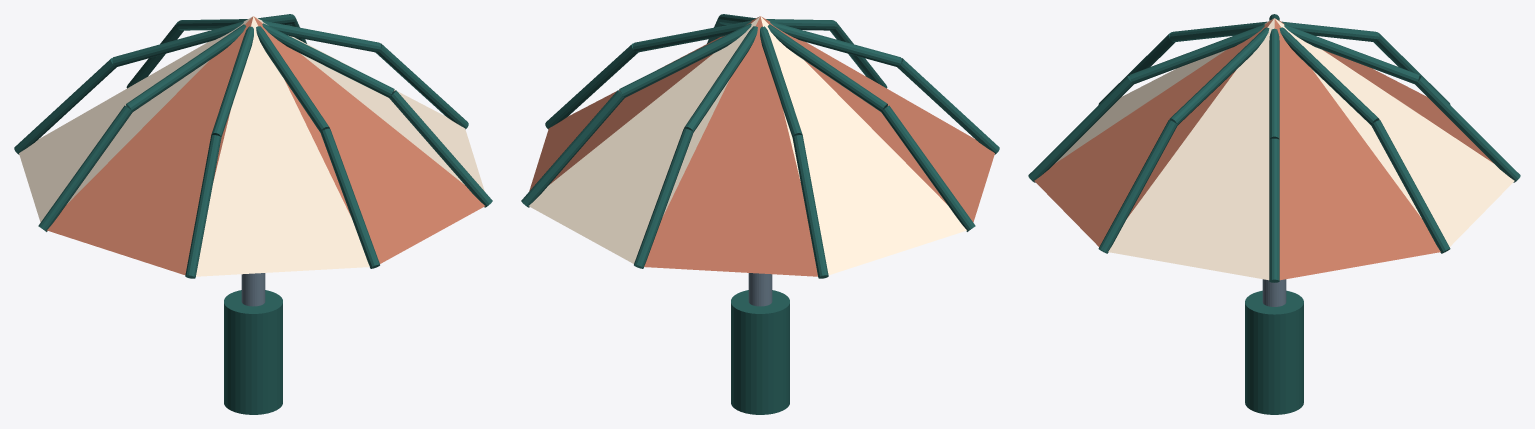
Rendered from foldumbrella.glb.
3 views of the same model, side by side, from view 1: azimuth 30°, elevation 25°; view 2: azimuth 150°, elevation 25°; view 3: azimuth 270°, elevation 25° (orthographic).
Parts seen in each view (by area): view 1: panel2, panel3, panel1, panel4, handle, panel0, rib21, rib41, rib31, rib11, rib10, rib40 (+9 smaller); view 2: panel5, panel4, panel6, panel3, handle, panel7, rib61, rib41, rib51, rib71, rib70, rib40 (+9 smaller); view 3: panel0, panel7, panel1, panel6, handle, panel2, panel5, rib11, rib71, rib01, rib20, rib60 (+10 smaller).
Part boxes in pixels (box(x1,y1,x2,y2)): panel2: box(196, 16, 369, 276); panel3: box(47, 16, 253, 274); panel1: box(254, 17, 484, 263); panel4: box(19, 16, 252, 222); handle: box(224, 290, 282, 414); panel0: box(254, 16, 484, 190); rib21: box(320, 128, 379, 268); rib41: box(38, 105, 132, 231); rib31: box(185, 135, 221, 278); rib11: box(389, 90, 492, 207); rib10: box(262, 23, 394, 97); rib40: box(126, 24, 246, 111); panel5: box(644, 16, 817, 276); panel4: box(760, 16, 966, 274); panel6: box(529, 17, 759, 263); panel3: box(761, 16, 994, 222); handle: box(731, 290, 789, 414); panel7: box(529, 16, 759, 190); rib61: box(634, 128, 693, 268); rib41: box(881, 105, 975, 231); rib51: box(792, 135, 828, 278); rib71: box(521, 90, 624, 207); rib70: box(619, 23, 751, 97); rib40: box(767, 24, 887, 111); panel0: box(1108, 18, 1274, 280); panel7: box(1274, 19, 1440, 280); panel1: box(1034, 18, 1273, 246); panel6: box(1275, 18, 1514, 246); handle: box(1245, 290, 1303, 414); panel2: box(1055, 18, 1273, 163); panel5: box(1275, 18, 1493, 163); rib11: box(1098, 120, 1177, 253); rib71: box(1371, 120, 1450, 253); rib01: box(1269, 138, 1279, 282); rib20: box(1129, 24, 1264, 84); rib60: box(1284, 24, 1419, 84).
Size of the model in its own units: 1.67 by 1.44 by 1.67.
